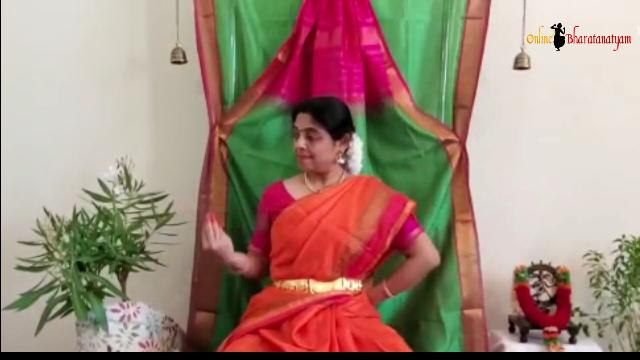mukul: (187, 202, 241, 276)
